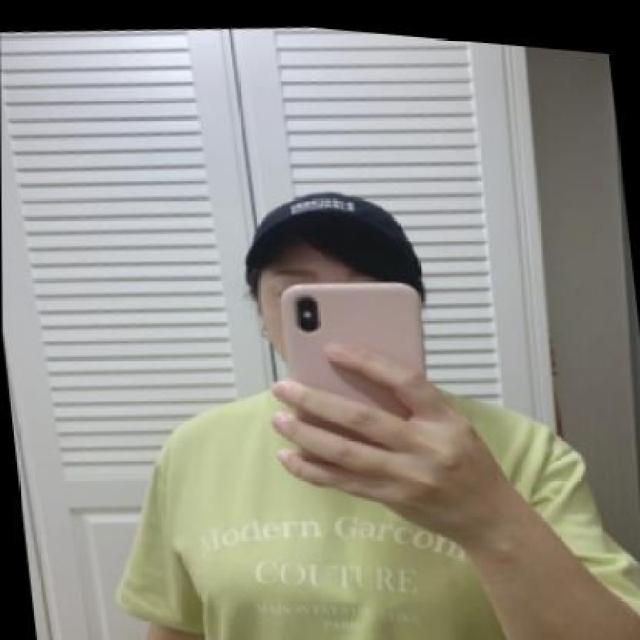hat: (230, 167, 421, 268)
